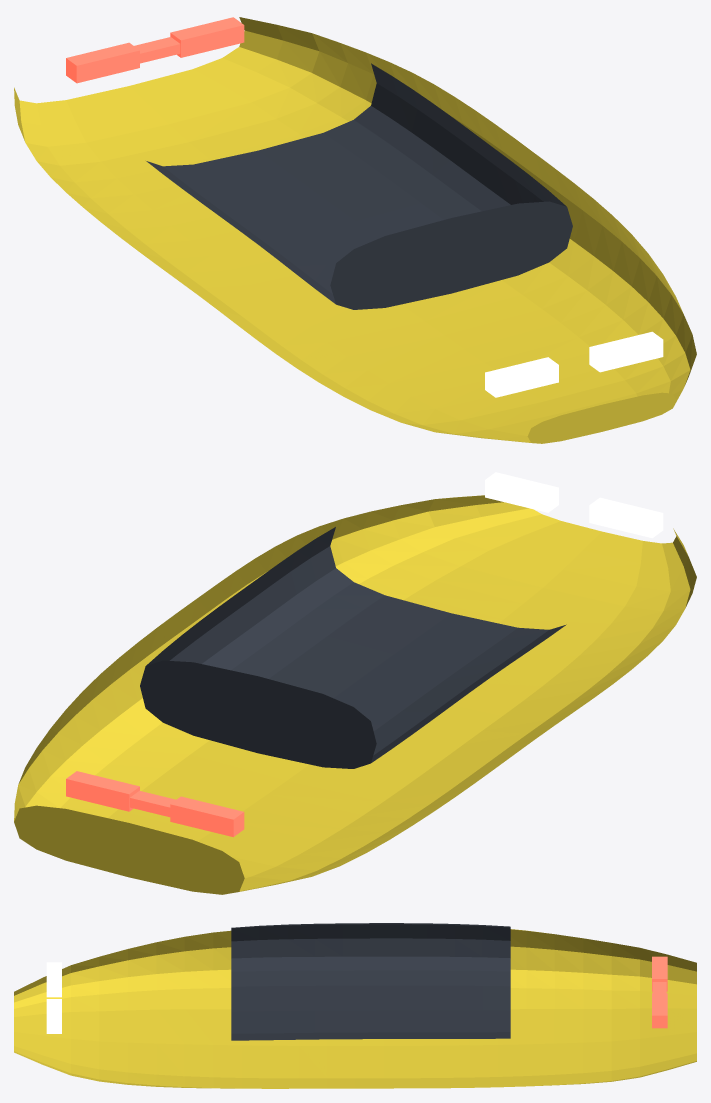
Rendered from roadster-2.glb.
3 renders of one model, top to bottom at view 1: azimuth 30°, elevation 25°; view 2: azimuth 150°, elevation 25°; view 3: azimuth 270°, elevation 25°, orthographic. The views are drawn at different scales.
Size of the model in its own units: 1.91 by 0.6702 by 4.4.
